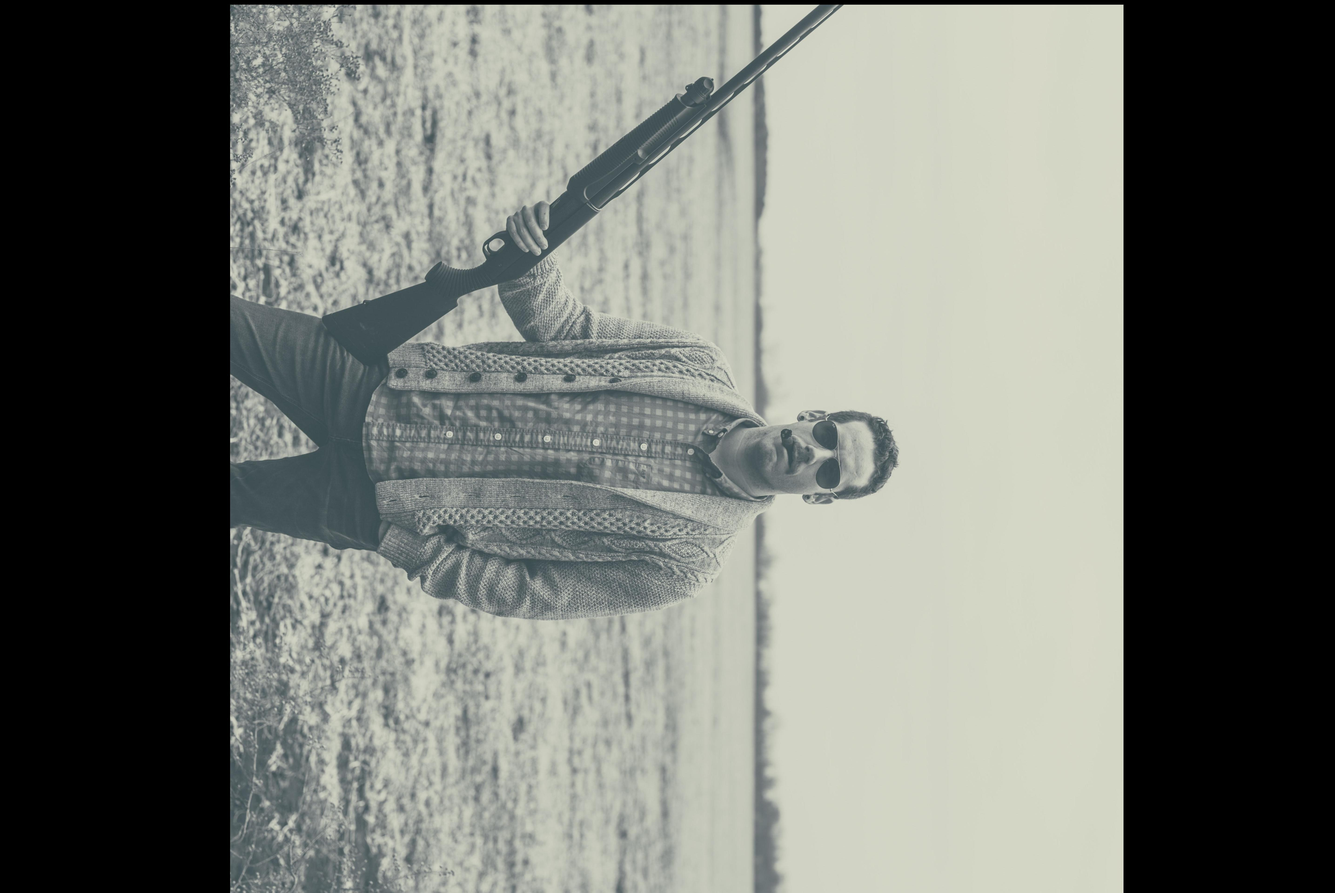larga: (324, 5, 846, 369)
